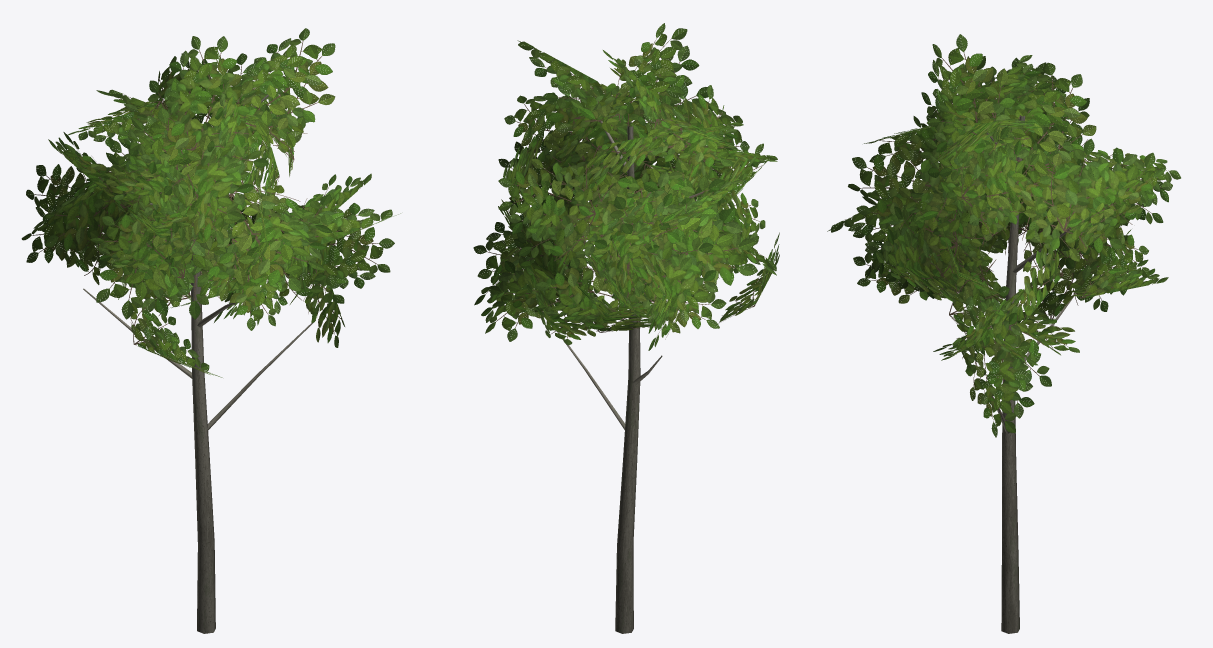
Rendered from bush_young_tree.glb.
3 renders of one model, left to right at view 1: azimuth 30°, elevation 25°; view 2: azimuth 150°, elevation 25°; view 3: azimuth 270°, elevation 25°, orthographic. The views are drawn at different scales.
Parts seen in each view (by area): view 1: bush_young_tree; view 2: bush_young_tree; view 3: bush_young_tree.
Part boxes in pixels (box(x1,y1,x2,y2)): bush_young_tree: box(21, 28, 400, 633); bush_young_tree: box(473, 23, 779, 633); bush_young_tree: box(827, 34, 1180, 633).
Bounding box in the file's own units: 1.5 × 2.7 × 1.52.
2 materials, 2 textured.
